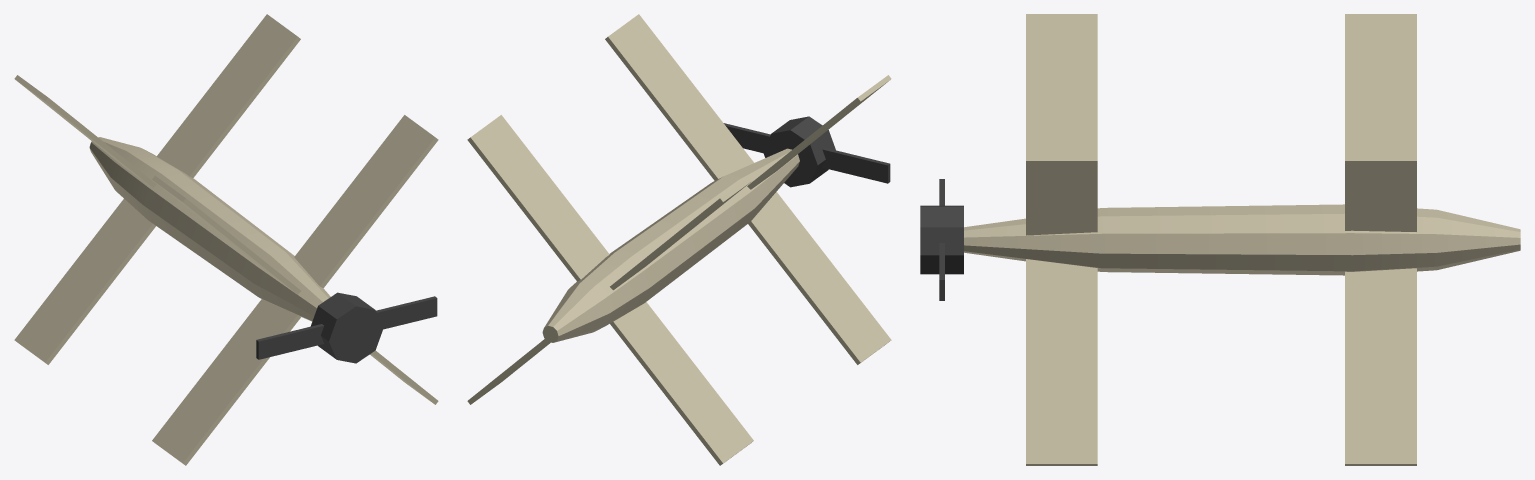
The model's file is rus_lm_lancet3m.glb.
3 views of the same model, side by side, from view 1: azimuth 30°, elevation 25°; view 2: azimuth 150°, elevation 25°; view 3: azimuth 270°, elevation 25° (orthographic). The views are drawn at different scales.
Visible parts, largest first — view 1: body; view 2: body; view 3: body.
Part boxes in pixels (bbox=[...]): body: bbox=[14, 14, 438, 465]; body: bbox=[467, 14, 891, 465]; body: bbox=[920, 14, 1520, 465].
Size of the model in its own units: 1.18 by 1.18 by 2.06.
